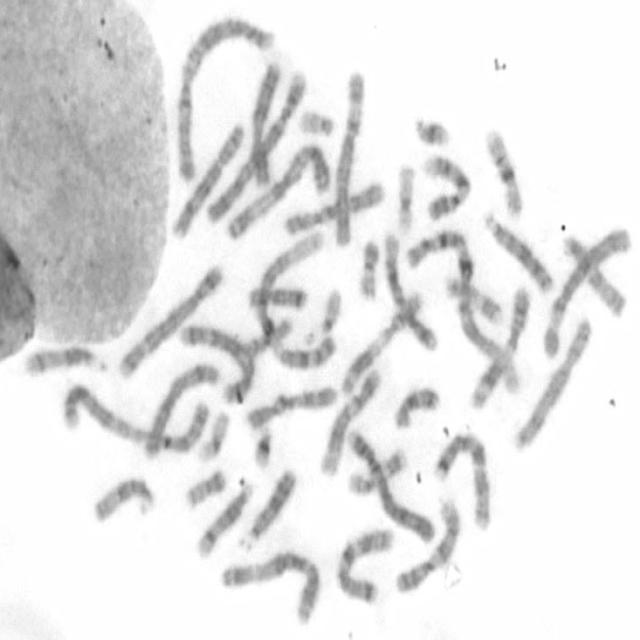A1: (393, 224, 521, 390), (250, 226, 338, 374)
A2: (172, 11, 278, 184), (56, 376, 210, 455)
A3: (221, 138, 331, 241), (215, 543, 324, 629)
B4: (204, 62, 308, 226), (346, 424, 436, 546)
B5: (115, 261, 224, 379), (177, 319, 255, 406)
C10: (278, 176, 386, 236), (241, 381, 340, 433)
C11: (336, 284, 425, 398), (467, 281, 531, 410)
C12: (316, 362, 383, 480), (380, 229, 439, 355)
C6: (538, 219, 633, 361), (330, 66, 368, 250)
C7: (432, 424, 494, 534), (333, 520, 396, 606)
C8: (511, 313, 594, 454), (168, 118, 244, 241)
C9: (390, 491, 464, 598), (419, 148, 472, 223)
D13: (481, 207, 556, 295), (236, 460, 298, 553)
D14: (191, 475, 255, 560), (22, 342, 110, 378)
D15: (558, 231, 628, 321), (89, 469, 158, 525)
E16: (481, 122, 525, 219), (231, 317, 295, 372)
E17: (441, 270, 505, 330), (343, 442, 410, 498)
E18: (390, 379, 442, 431), (244, 280, 309, 312)
F19: (194, 406, 230, 465), (392, 158, 417, 238)
F20: (182, 461, 229, 509), (355, 233, 381, 301)
G21: (409, 109, 453, 149), (250, 420, 274, 470)
G22: (295, 103, 336, 138), (316, 284, 342, 339)
X: (140, 360, 222, 462), (247, 58, 283, 187)
